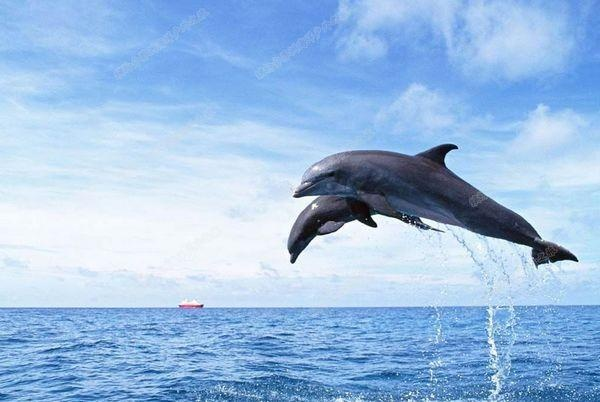fish: (291, 142, 579, 266), (273, 200, 418, 264)
